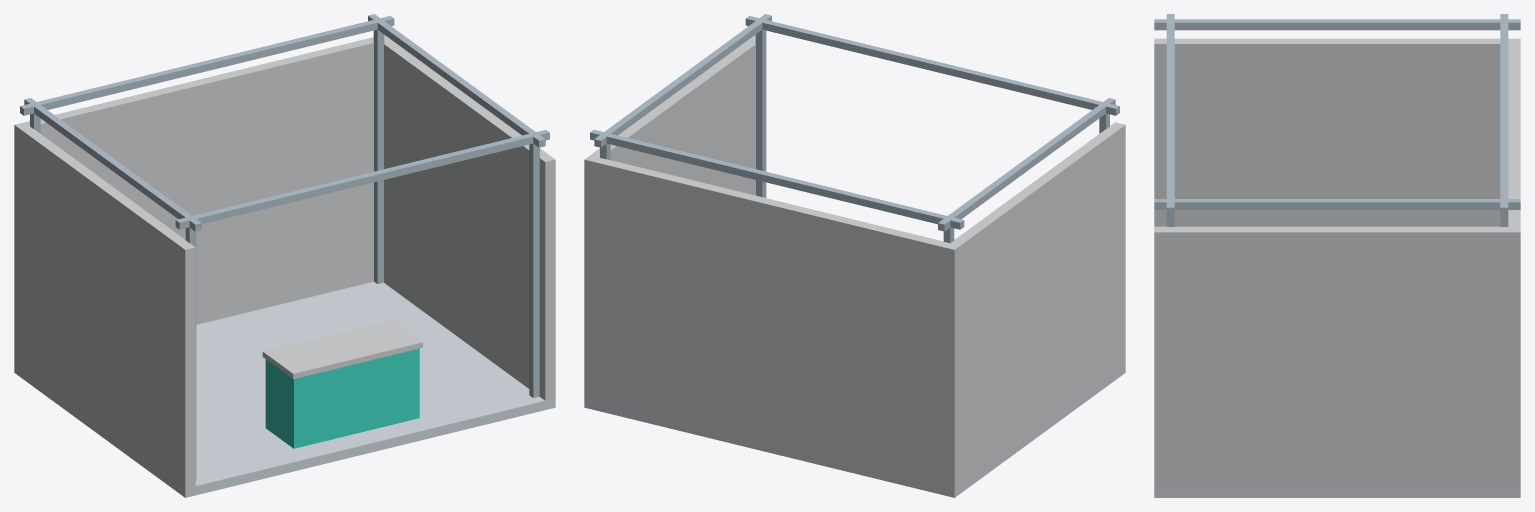
3 renders of one model, left to right at view 1: azimuth 30°, elevation 25°; view 2: azimuth 150°, elevation 25°; view 3: azimuth 270°, elevation 25°, orthographic. The views are drawn at different scales.
Visible parts, largest first — view 1: Exhibition Booth Concept; view 2: Exhibition Booth Concept; view 3: Exhibition Booth Concept.
Part boxes in pixels (x1=…): Exhibition Booth Concept: x1=14, y1=14, x2=555, y2=497; Exhibition Booth Concept: x1=584, y1=14, x2=1125, y2=497; Exhibition Booth Concept: x1=1154, y1=14, x2=1520, y2=497.
Size of the model in its own units: 5 by 3.49 by 4.
